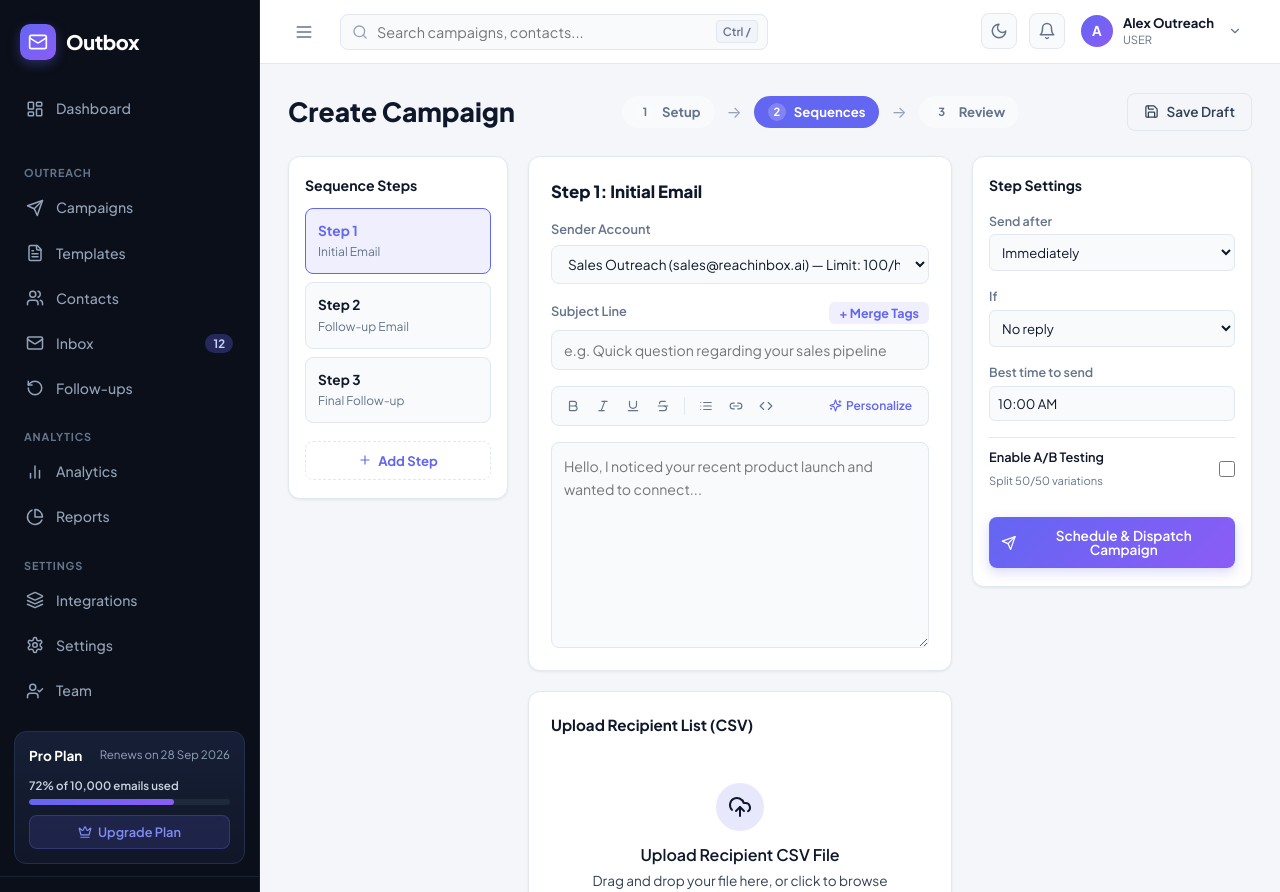
Test: Milestone 4 Step 2B Frontend Component & Flow Tests › Campaign Composer Tests › Test 11 & 12: should prevent submission when required fields are missing
Click the button "Schedule & Dispatch Campaign" at (1112, 543), box top-left (989, 517), bottom-right (1235, 568)
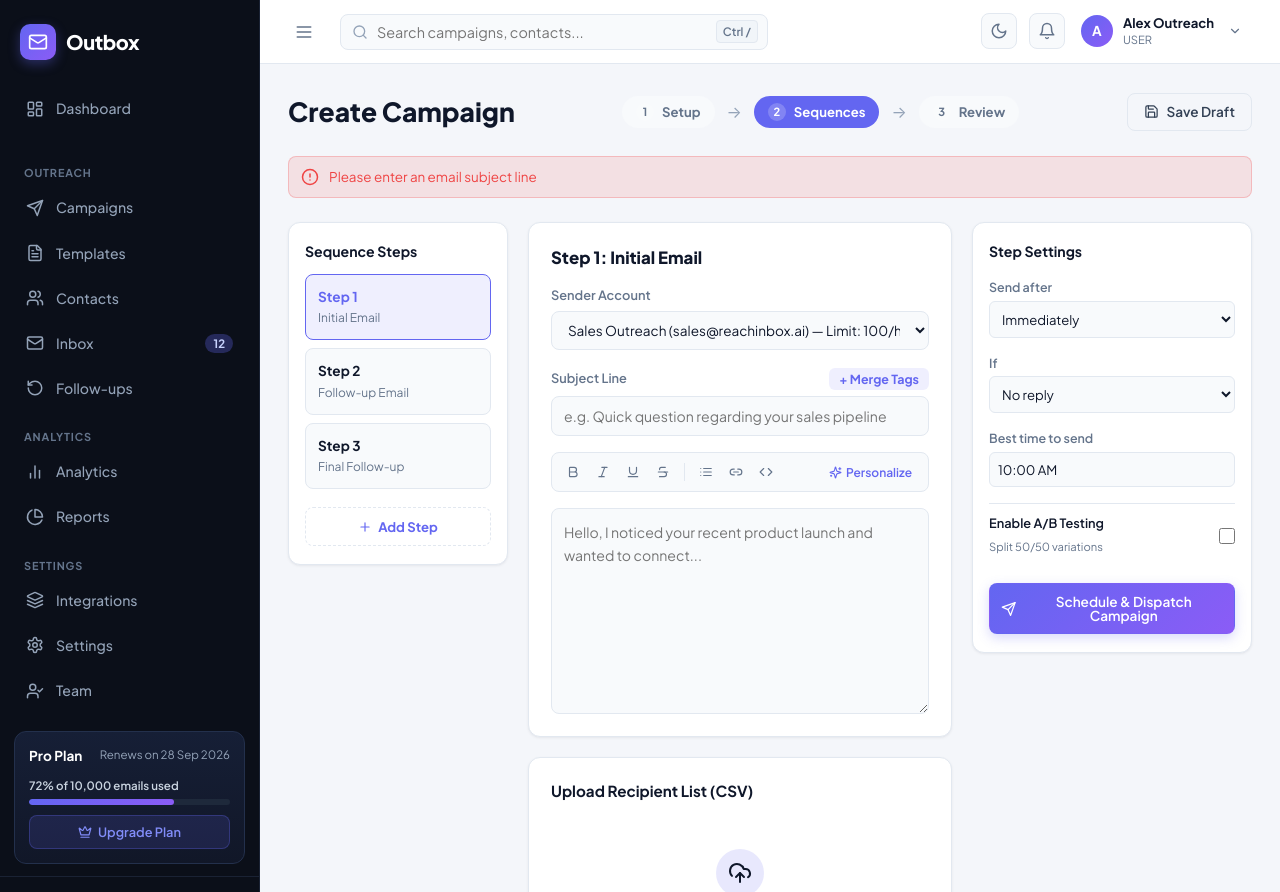
expect the text "Please enter an email subject line" is shown: met, box top-left (329, 167), bottom-right (537, 187)
